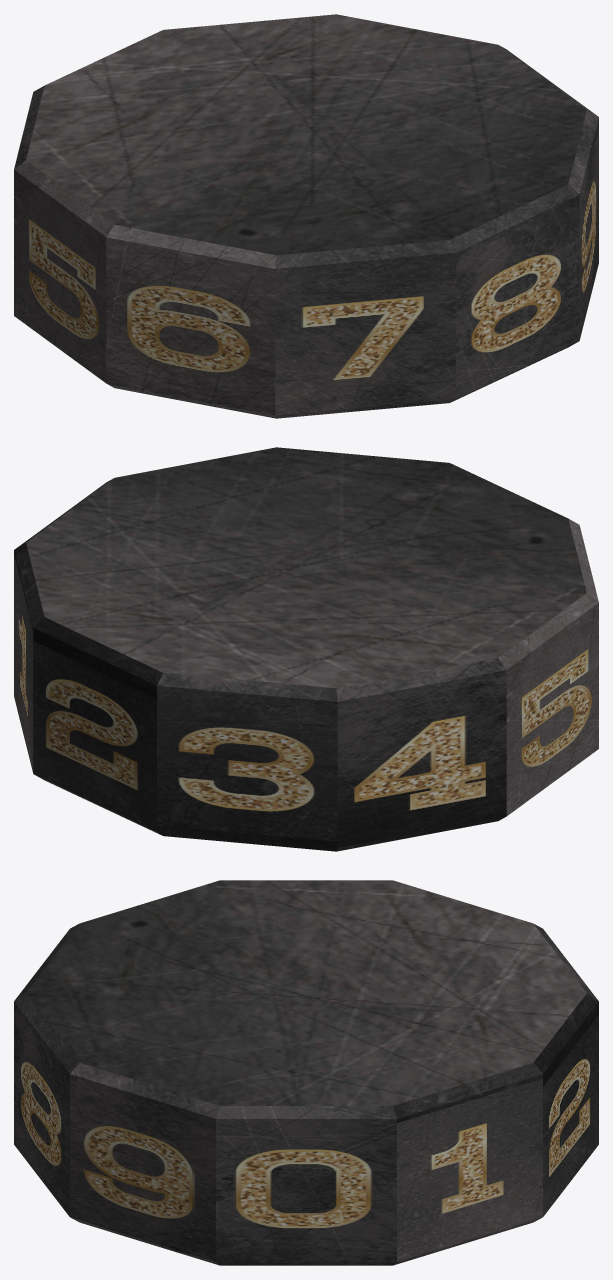
Rendered from senha.fbx.
3 renders of one model, top to bottom at view 1: azimuth 30°, elevation 25°; view 2: azimuth 150°, elevation 25°; view 3: azimuth 270°, elevation 25°, orthographic. The views are drawn at different scales.
Visible parts, largest first — view 1: Cylinder; view 2: Cylinder; view 3: Cylinder.
Boxes of the visible parts, x1,y1,x2,y2 form: Cylinder: (14, 14, 598, 418); Cylinder: (14, 447, 598, 851); Cylinder: (14, 880, 598, 1265).
Bounding box in the file's own units: 98.26 × 31.13 × 103.
Materials: 1 (1 with a texture image).
